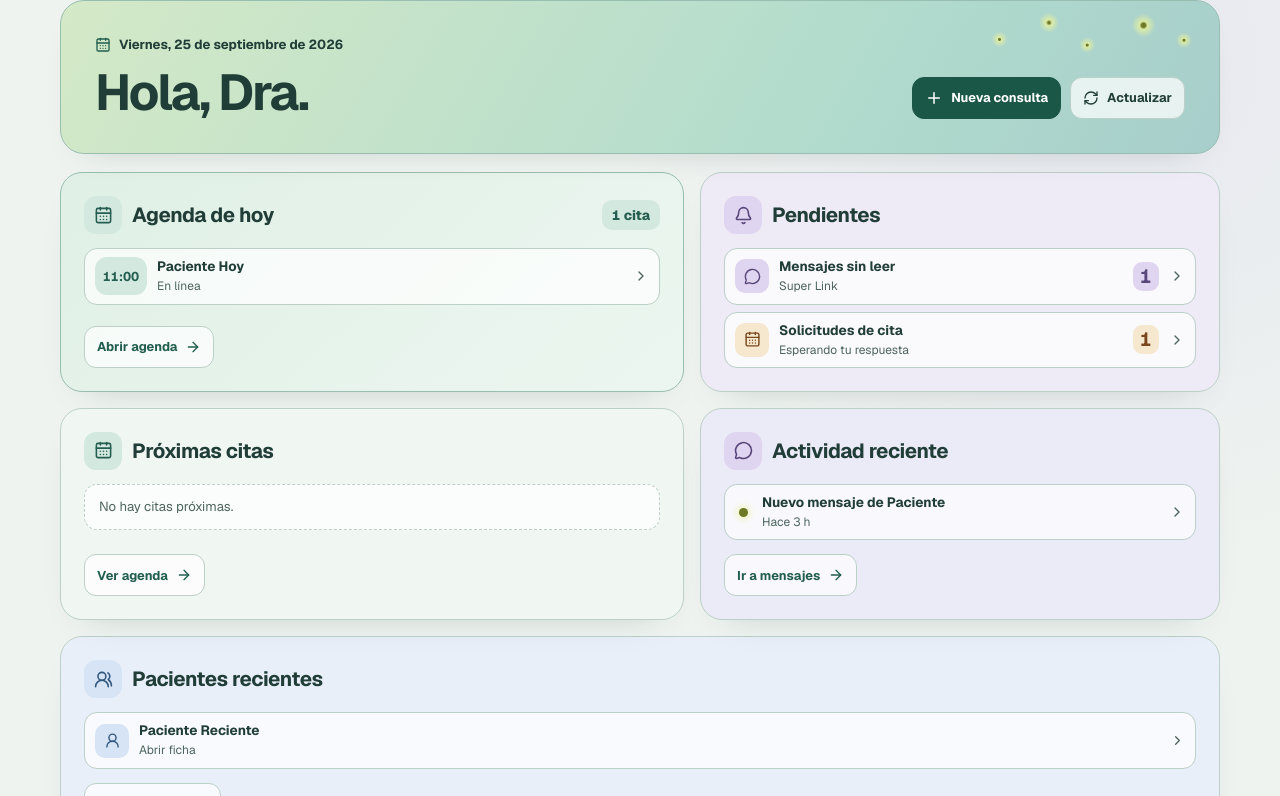
Test: DashboardPage › refreshes the visit total independently from the agenda
Expected: the text "Paciente Hoy" is shown, [157,257,244,275]
Click the button "Actualizar".
click(1128, 98)  # box [1070,77,1185,119]
(page scrolled)
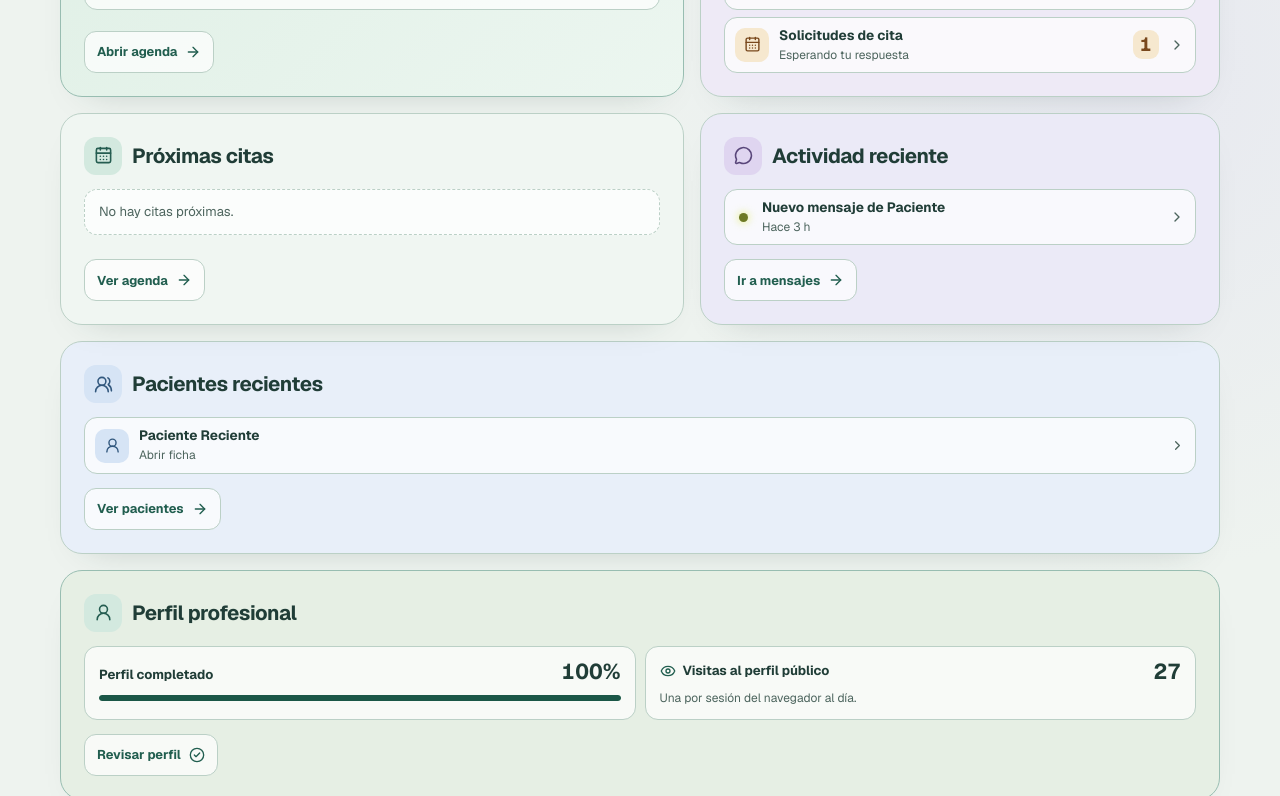
Expected: the text "27" is shown, [1154,659,1181,685]
Expected: the text "Una por sesión del navegador al día." is shown, [660,690,856,706]
